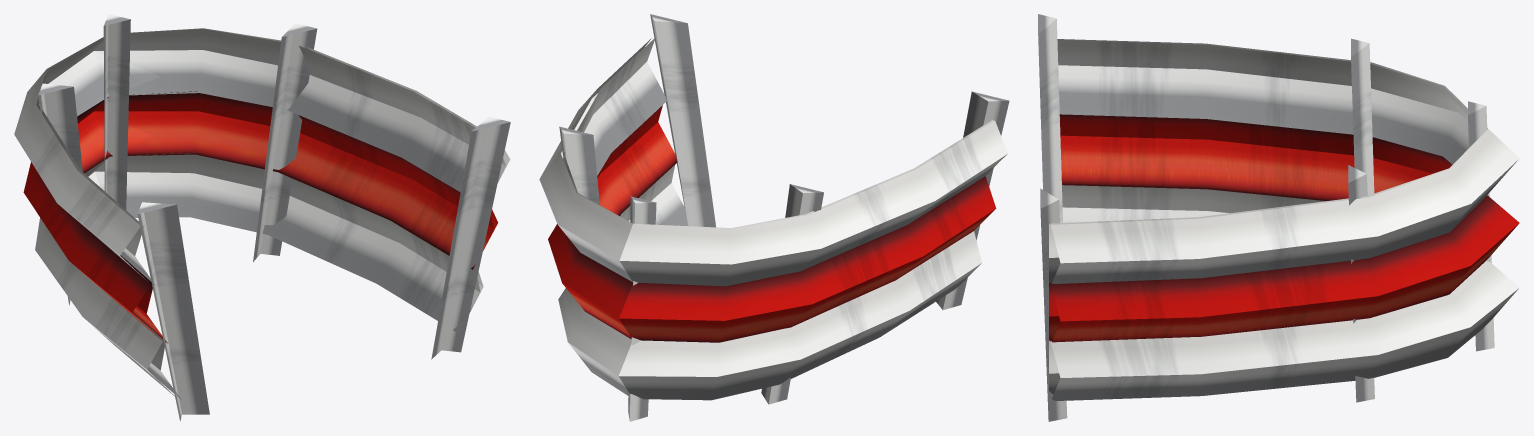
The model's file is guardrail_start.fbx.
3 renders of one model, left to right at view 1: azimuth 30°, elevation 25°; view 2: azimuth 150°, elevation 25°; view 3: azimuth 270°, elevation 25°, orthographic. The views are drawn at different scales.
Parts seen in each view (by area): view 1: guardrail_start; view 2: guardrail_start; view 3: guardrail_start.
Boxes of the visible parts, x1,y1,x2,y2 form: guardrail_start: (14,14,510,421); guardrail_start: (539,14,1009,421); guardrail_start: (1038,14,1519,421).
Bounding box in the file's own units: 350 × 193 × 350.
